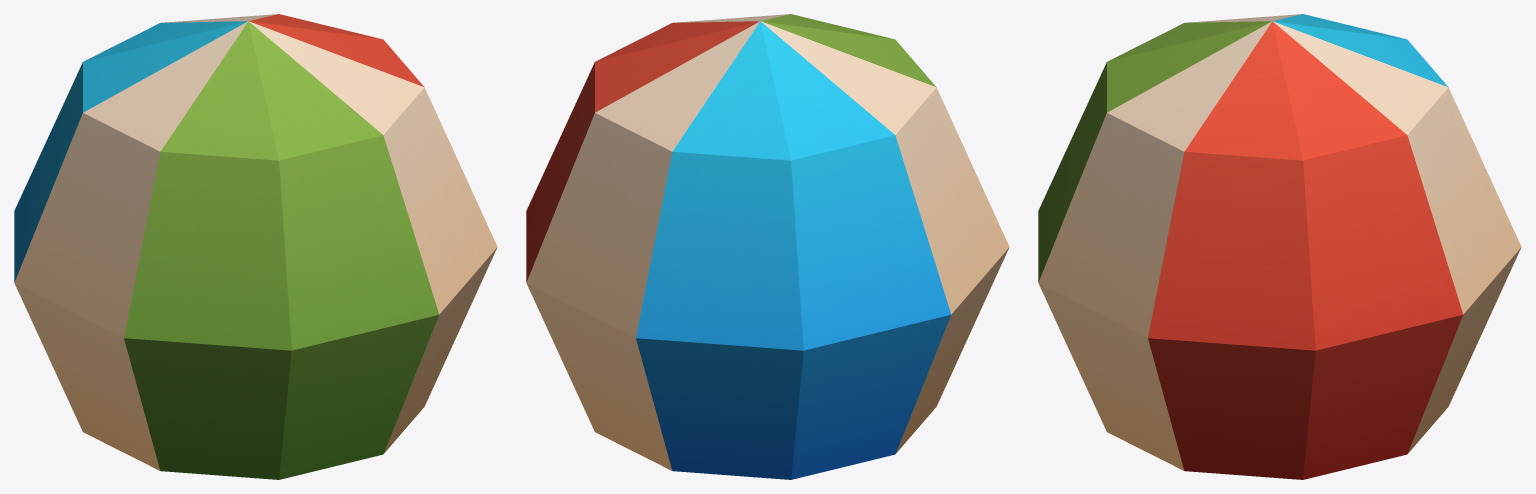
File: bolaDePlaya.fbx
3 renders of one model, left to right at view 1: azimuth 30°, elevation 25°; view 2: azimuth 150°, elevation 25°; view 3: azimuth 270°, elevation 25°, orthographic.
Parts seen in each view (by area): view 1: bolaDePlaya; view 2: bolaDePlaya; view 3: bolaDePlaya.
Part boxes in pixels (x1=…): bolaDePlaya: x1=14, y1=14, x2=497, y2=479; bolaDePlaya: x1=526, y1=14, x2=1009, y2=479; bolaDePlaya: x1=1038, y1=14, x2=1521, y2=479.
Size of the model in its own units: 46.41 by 47.13 by 45.71.
Materials: 1 (1 with a texture image).
